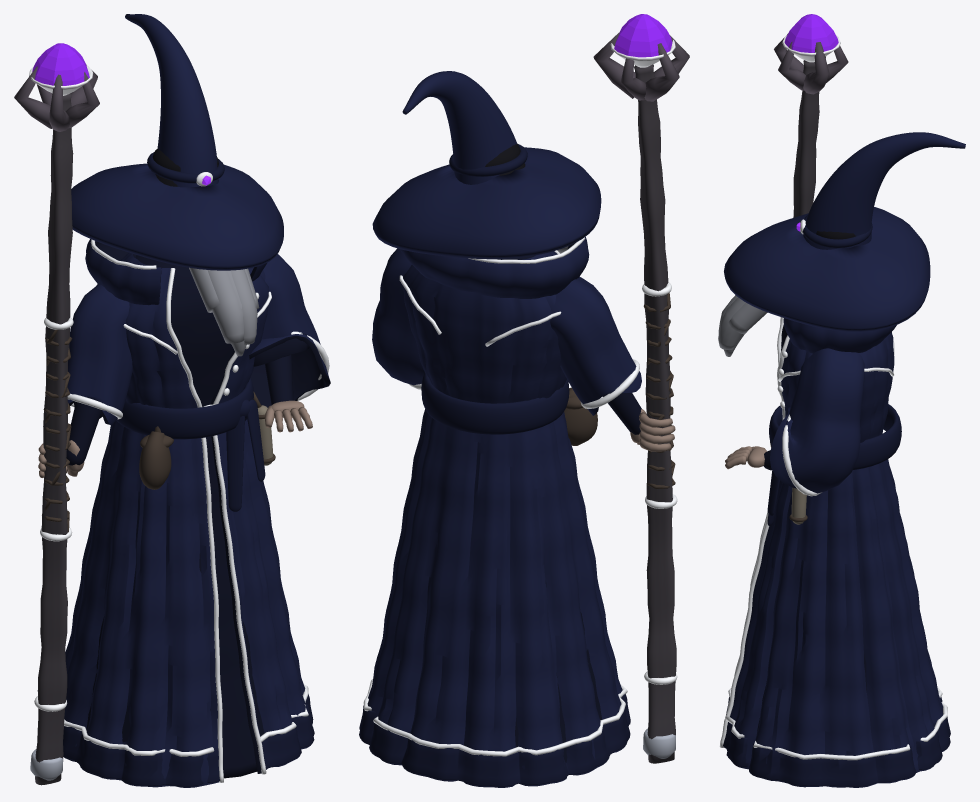
The model's file is mage000.fbx.
The picture shows the model from 3 angles, left to right: view 1: azimuth 30°, elevation 25°; view 2: azimuth 150°, elevation 25°; view 3: azimuth 270°, elevation 25°; orthographic projection. The views are drawn at different scales.
Visible parts, largest first — view 1: Robe, Hat_Brim, Staff_Shaft, Underrobe, Hat_Crown, Sleeve_R, Robe_HemBorder, Sleeve_L, Sash, Collar, Robe_Piping_L, Robe_Piping_R (+16 smaller); view 2: Robe, Hat_Brim, Staff_Shaft, Robe_HemBorder, Sleeve_R, Hat_Crown, Collar, Sash, Sleeve_L, Staff_Gem, Robe_HemBand, Staff_Wrap (+8 smaller); view 3: Robe, Hat_Brim, Sleeve_L, Hat_Crown, Robe_HemBorder, Staff_Shaft, Collar, Sash, Staff_Gem, Robe_Piping_R, Robe_HemBand, Staff_Tendril0 (+5 smaller).
Boxes of the visible parts, x1,y1,x2,y2 form: Robe: (63, 252, 311, 787); Hat_Brim: (71, 163, 283, 270); Staff_Shaft: (35, 93, 73, 785); Underrobe: (86, 255, 264, 778); Hat_Crown: (125, 14, 218, 187); Sleeve_R: (67, 284, 132, 424); Robe_HemBorder: (63, 694, 314, 786); Sleeve_L: (249, 254, 330, 407); Sash: (116, 377, 253, 439); Collar: (85, 239, 266, 305); Robe_Piping_L: (166, 268, 223, 782); Robe_Piping_R: (213, 352, 266, 774); Robe: (361, 251, 628, 787); Hat_Brim: (372, 147, 601, 259); Staff_Shaft: (634, 64, 676, 763); Robe_HemBorder: (359, 694, 630, 786); Sleeve_R: (550, 276, 641, 415); Hat_Crown: (402, 71, 516, 184); Collar: (400, 237, 589, 298); Sash: (421, 372, 569, 434); Sleeve_L: (372, 248, 424, 385); Staff_Gem: (614, 14, 672, 57); Robe_HemBand: (363, 679, 627, 756); Staff_Wrap: (643, 292, 675, 488); Robe: (724, 332, 947, 787); Hat_Brim: (724, 207, 930, 331); Sleeve_L: (769, 348, 864, 496); Hat_Crown: (803, 132, 965, 249); Robe_HemBorder: (723, 697, 950, 786); Staff_Shaft: (793, 60, 819, 217); Collar: (783, 318, 896, 353); Sash: (769, 404, 901, 469); Staff_Gem: (784, 14, 838, 52); Robe_Piping_R: (719, 335, 789, 747); Robe_HemBand: (725, 687, 947, 760); Staff_Tendril0: (803, 42, 829, 94).
Size of the model in its own units: 106 by 248 by 83.48.
